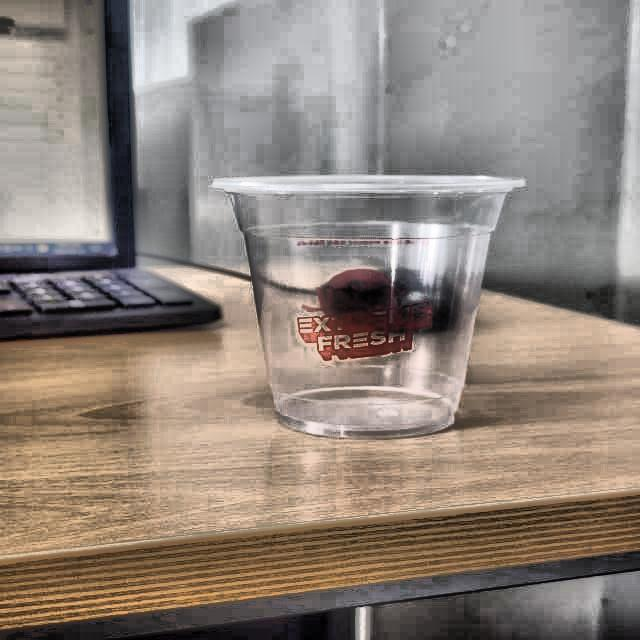plastic cup: (207, 171, 544, 437)
